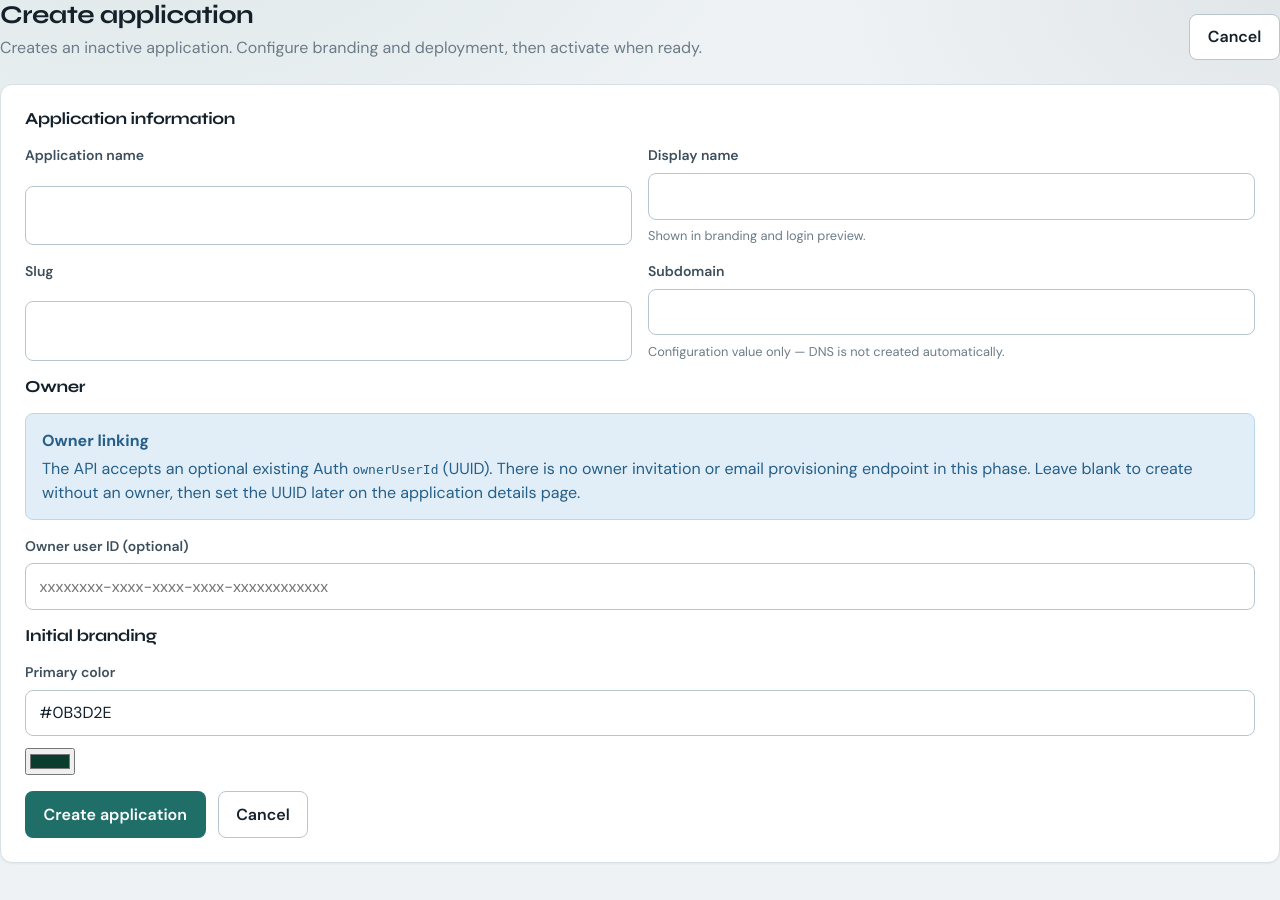
it: Master applications › creates an application through the Master API
The width and height of the screenshot is (1280, 900).
Type "Partner App" into the field labelled "Application name" at (328, 215), box [25,186,632,245]
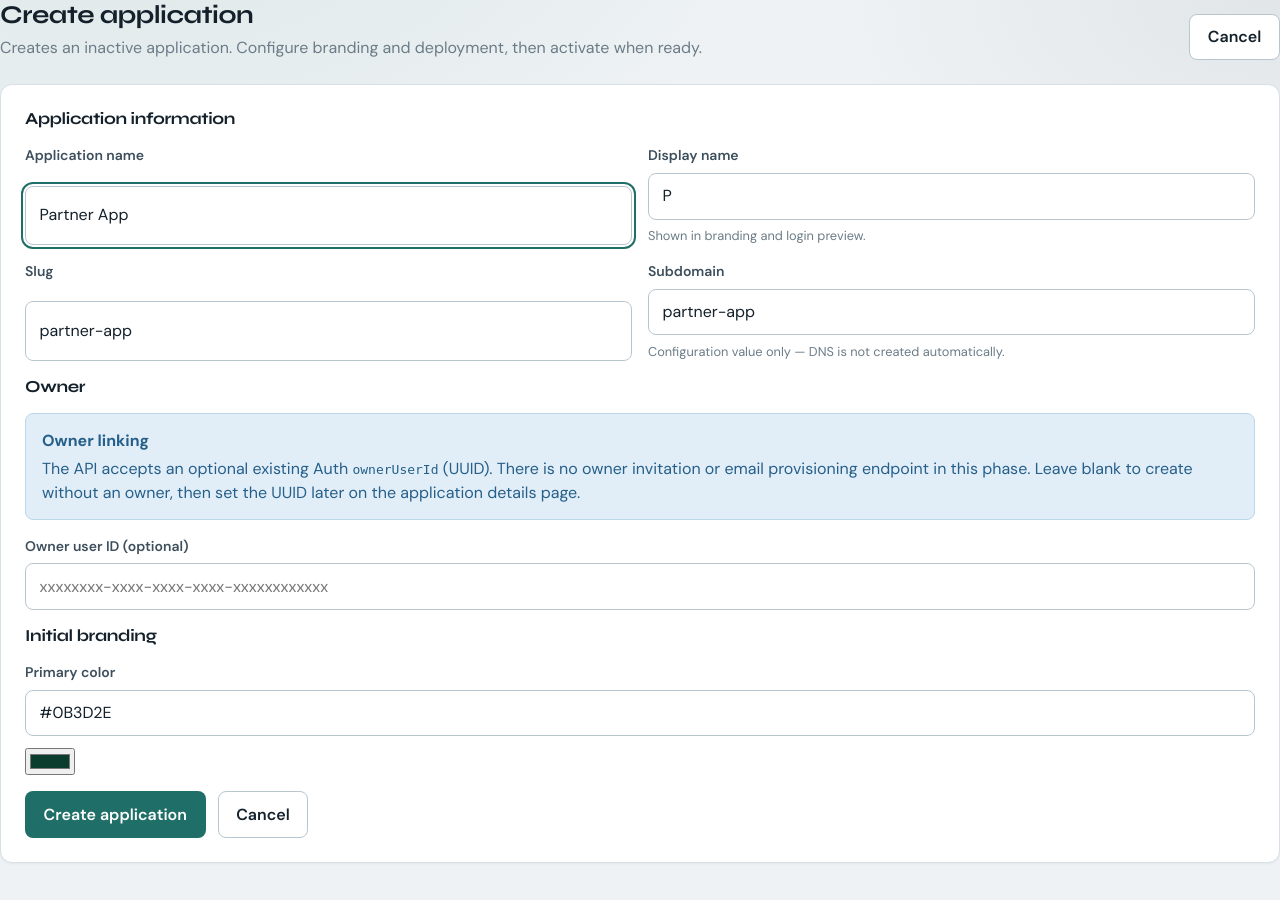
Click the button "Create application" at (115, 815), box [25,791,206,838]
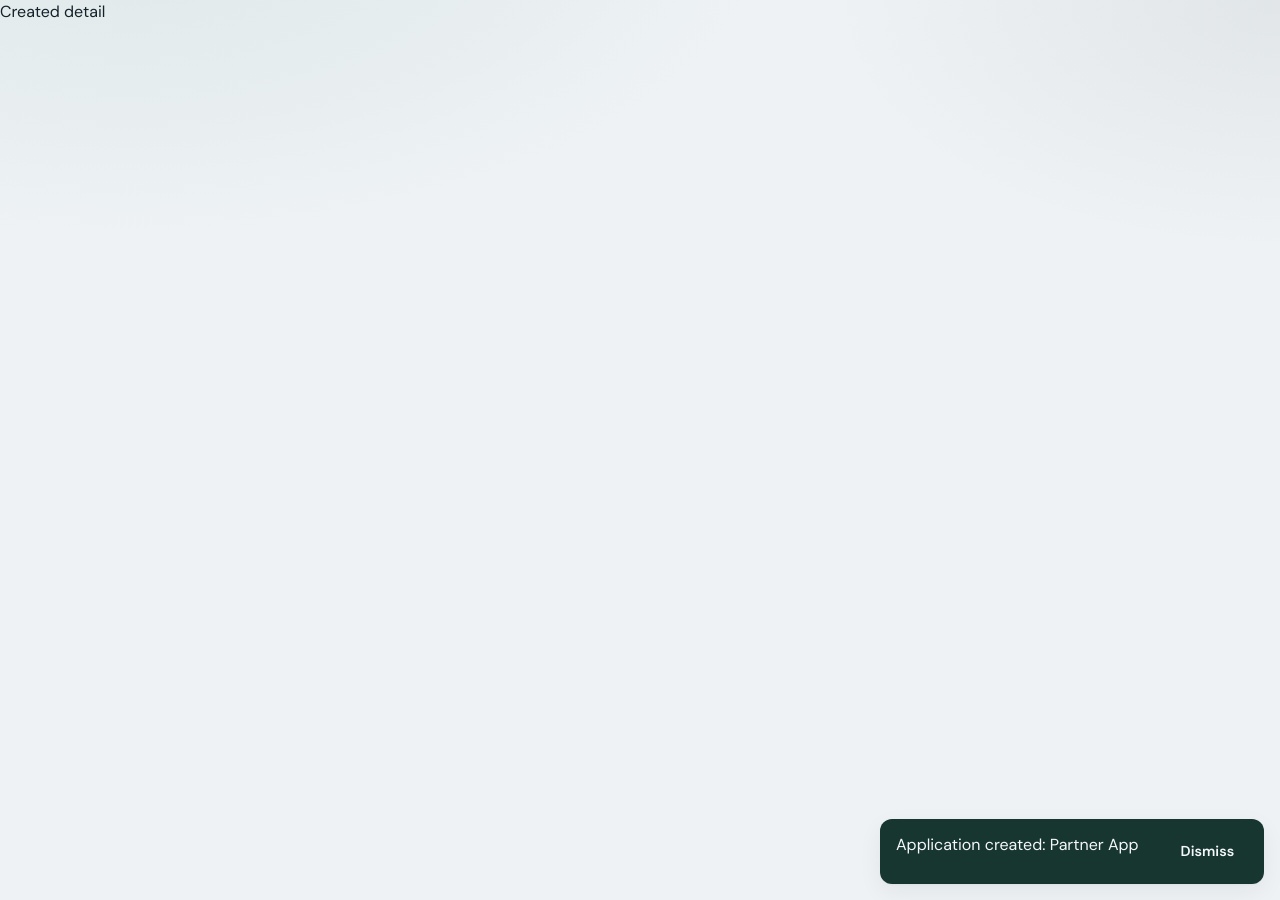
expect the text "Created detail" is shown: met, box [0,1,105,22]
